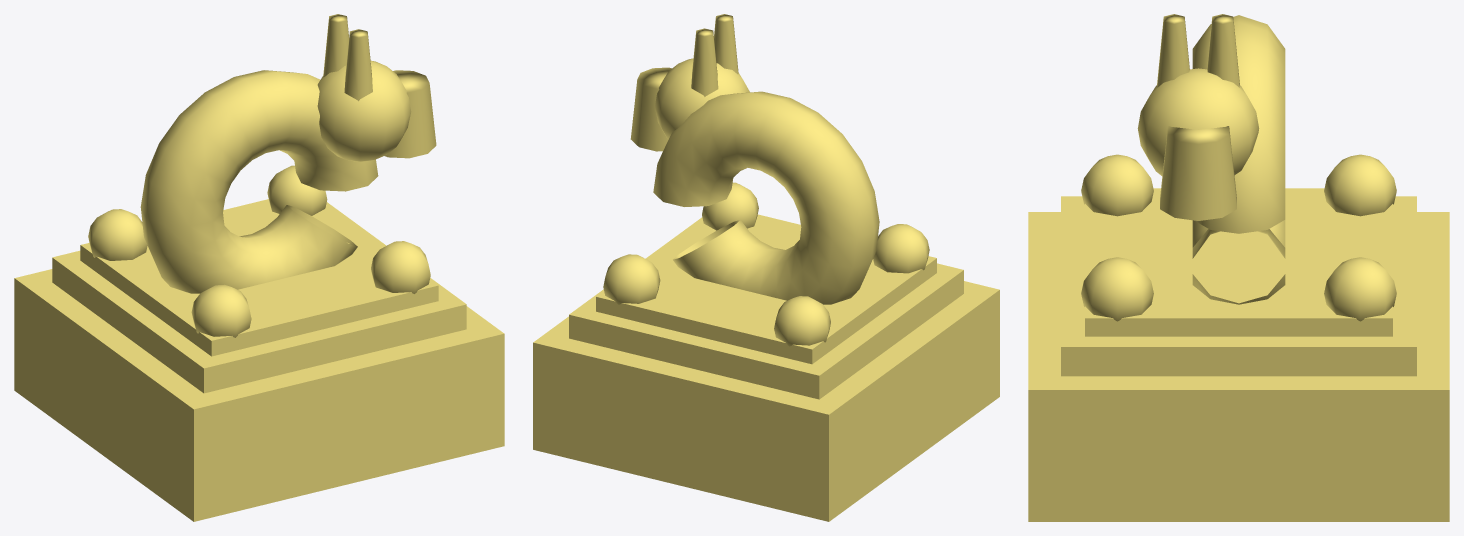
The model's file is an-vang-hoang-de.glb.
3 views of the same model, side by side, from view 1: azimuth 30°, elevation 25°; view 2: azimuth 150°, elevation 25°; view 3: azimuth 270°, elevation 25° (orthographic). The views are drawn at different scales.
Visible parts, largest first — view 1: AnVangHoangDe; view 2: AnVangHoangDe; view 3: AnVangHoangDe.
Boxes of the visible parts, left/top/right/bottom form: AnVangHoangDe: left=14, top=14, right=504, bottom=521; AnVangHoangDe: left=533, top=14, right=999, bottom=521; AnVangHoangDe: left=1028, top=14, right=1449, bottom=521.
Bounding box in the file's own units: 0.52 × 0.62 × 0.52.
